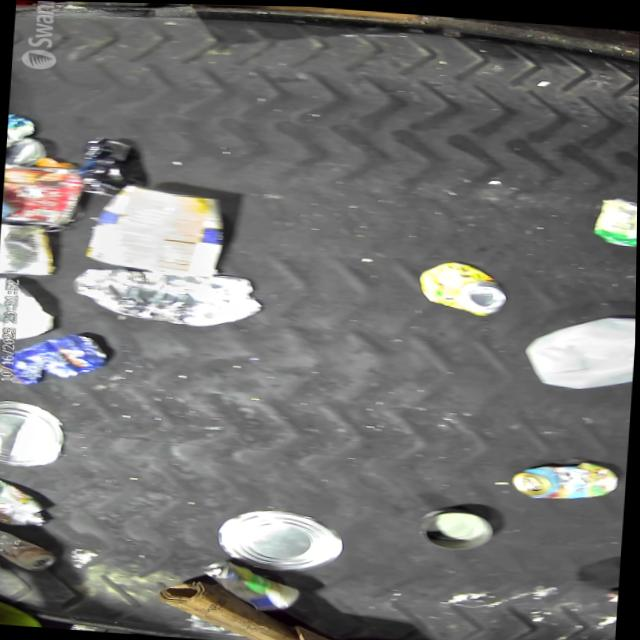can: (84, 178, 228, 278), (216, 503, 347, 573), (0, 327, 111, 390), (198, 557, 305, 612), (2, 162, 86, 228), (416, 256, 509, 314), (511, 454, 621, 501), (0, 398, 66, 467), (418, 502, 498, 550), (77, 134, 133, 196), (0, 221, 59, 278), (592, 191, 638, 243), (6, 112, 48, 167)
milk_jug: (522, 305, 637, 390)
plastic_bottle: (71, 262, 267, 328)
